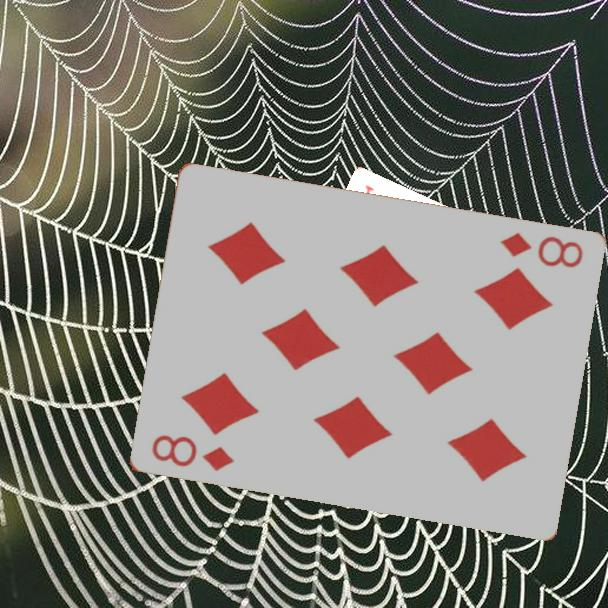d08: (147, 431, 237, 475), (496, 229, 586, 271)
